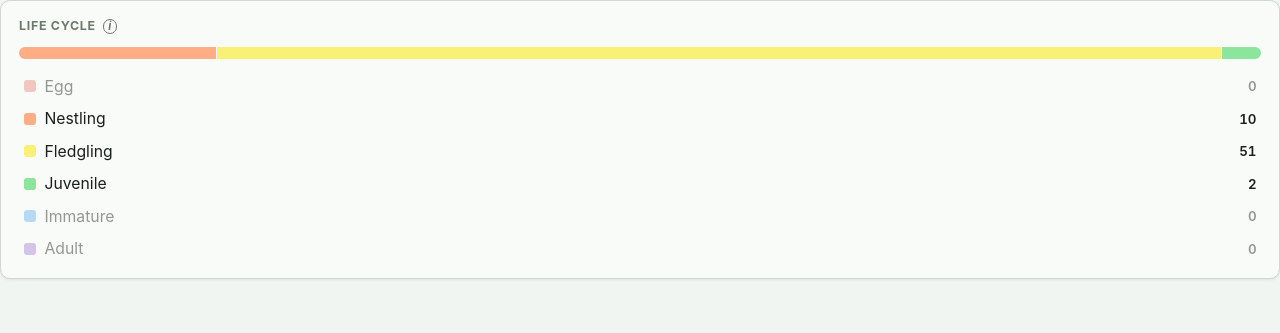
Test case: ProgressBreakdown › shows error message when the tier fetch fails
Click the button "Fledgling 51".
click(79, 151)  # box x1=19 y1=137 x2=1261 y2=165
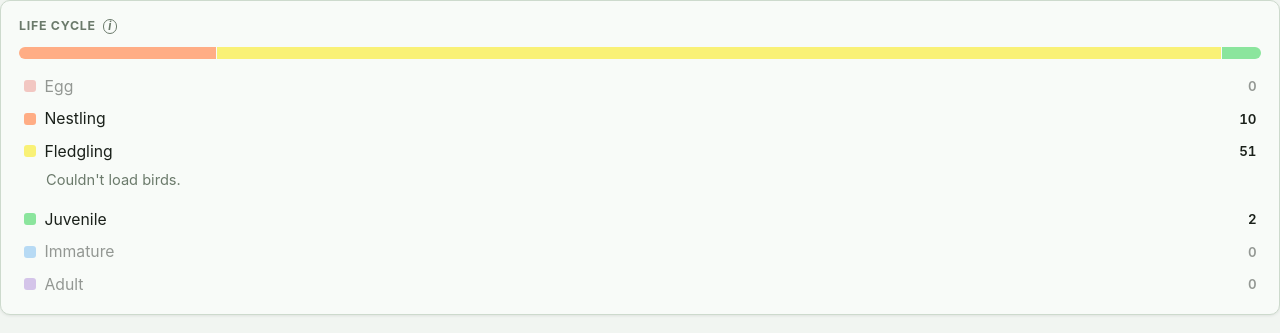
Result: the text "Couldn't load birds." is shown at x1=46 y1=171 x2=181 y2=189
